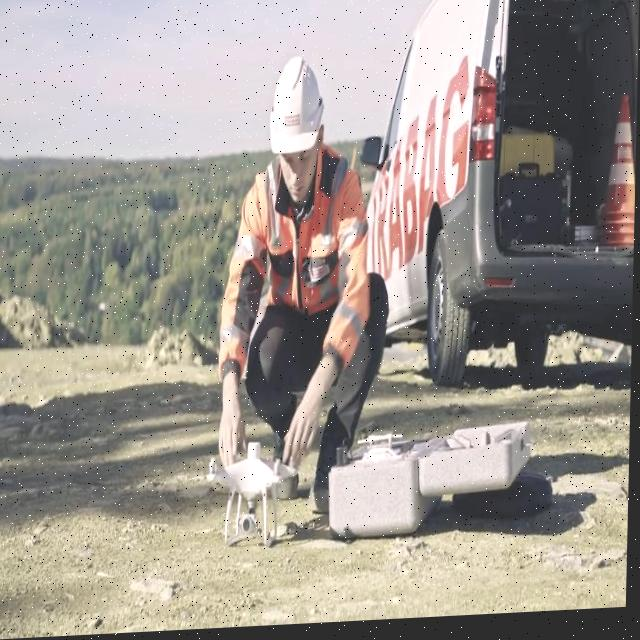drone: (210, 445, 284, 550)
